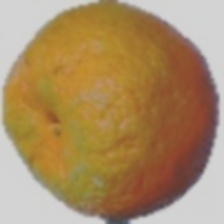tangerine: (47, 4, 211, 187)
